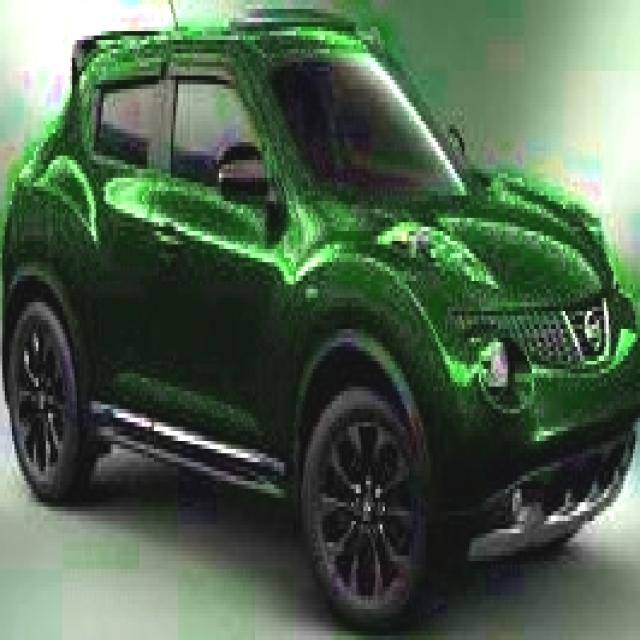green: (1, 25, 636, 624)
